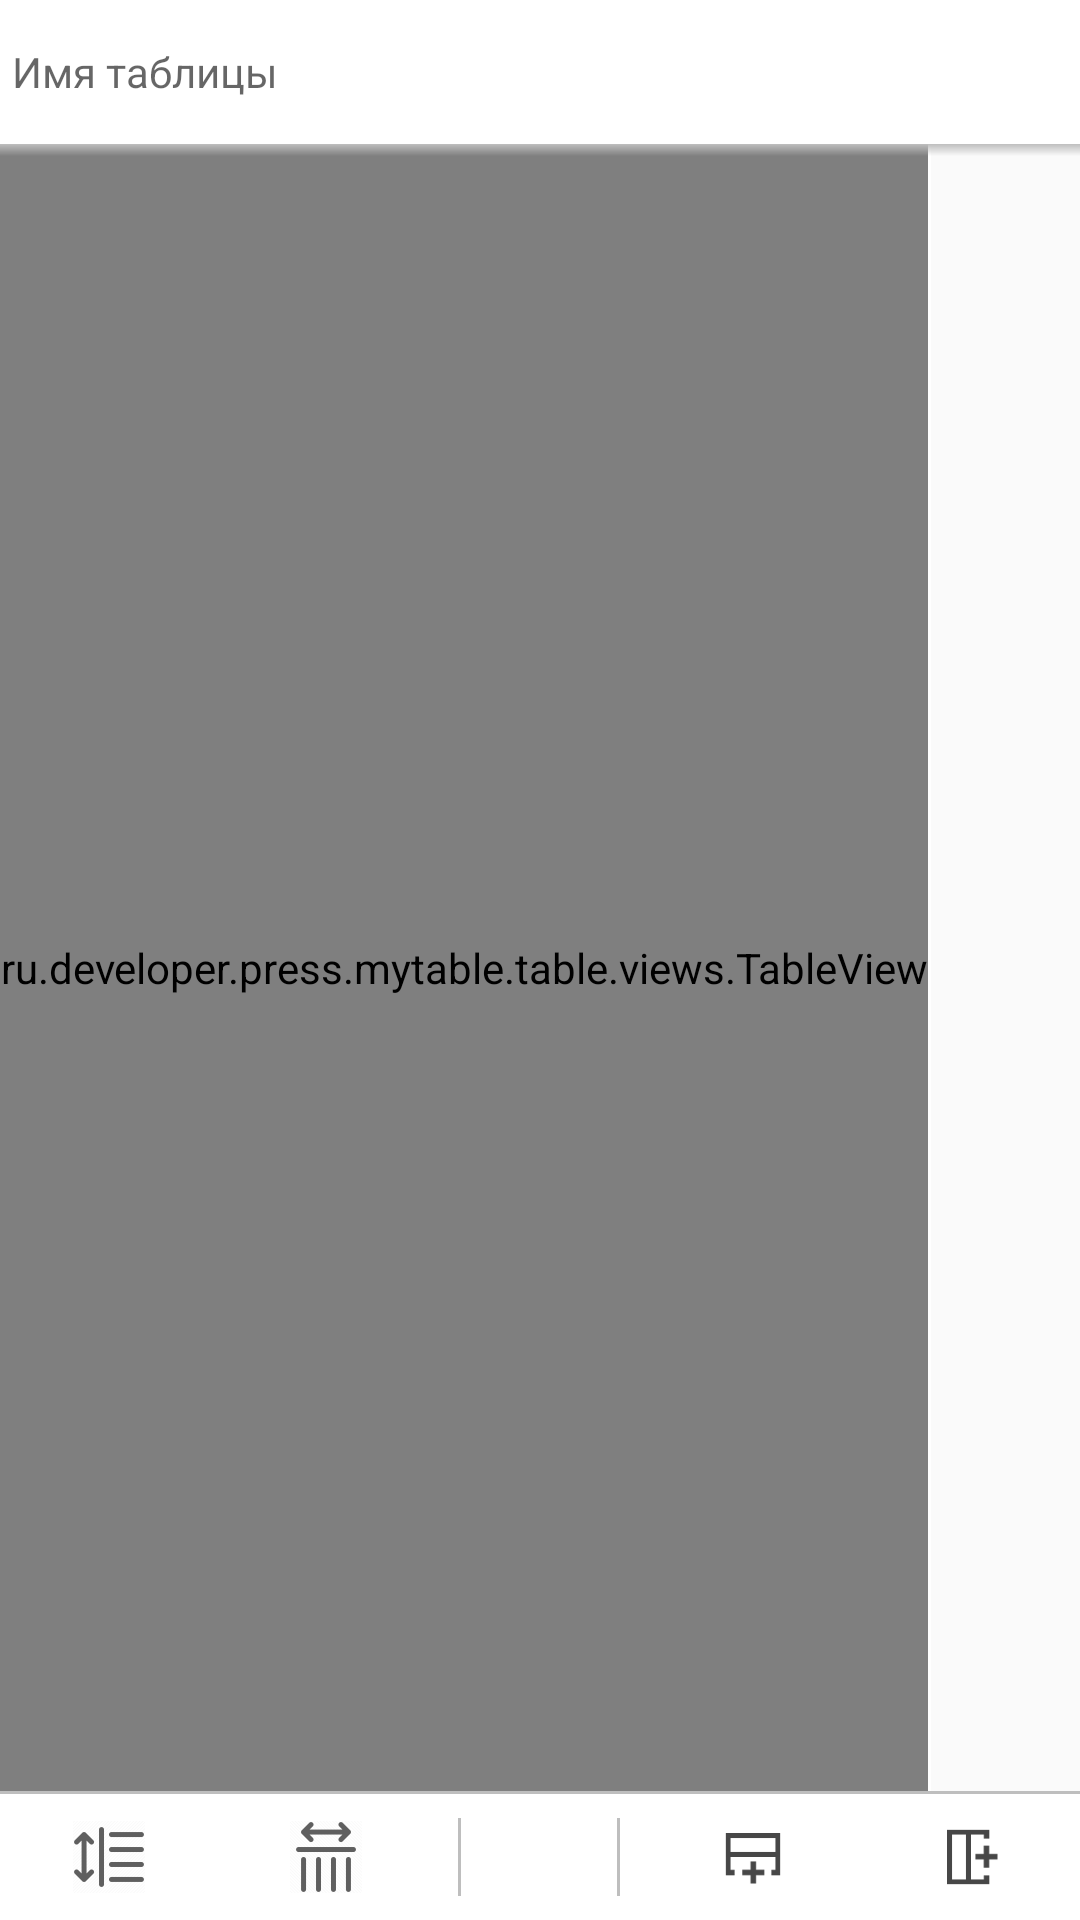

Icon click points for this 1080x1920 phone screenshot, format (x=x, y=y):
add stroke down: (x=753, y=1858)
heigh cell: (x=109, y=1857)
width cell: (x=326, y=1857)
